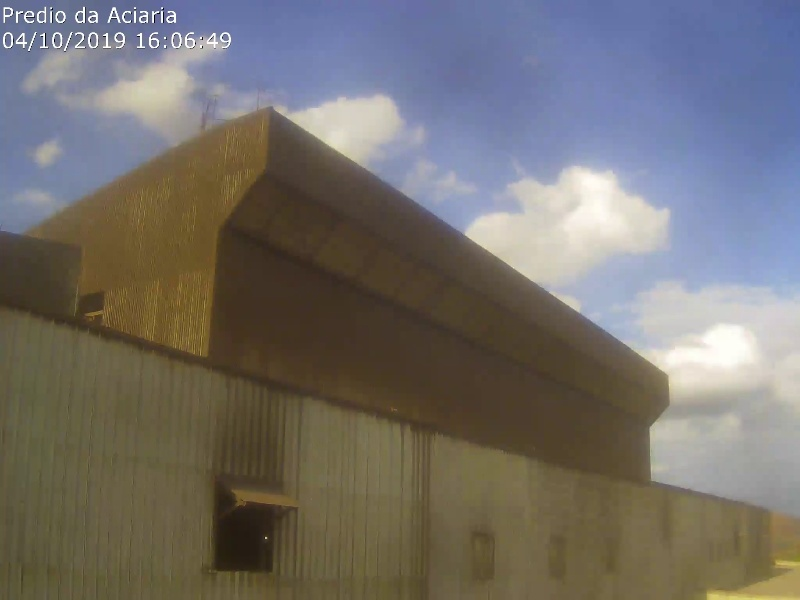bom: (380, 1, 800, 212), (594, 125, 800, 388)
